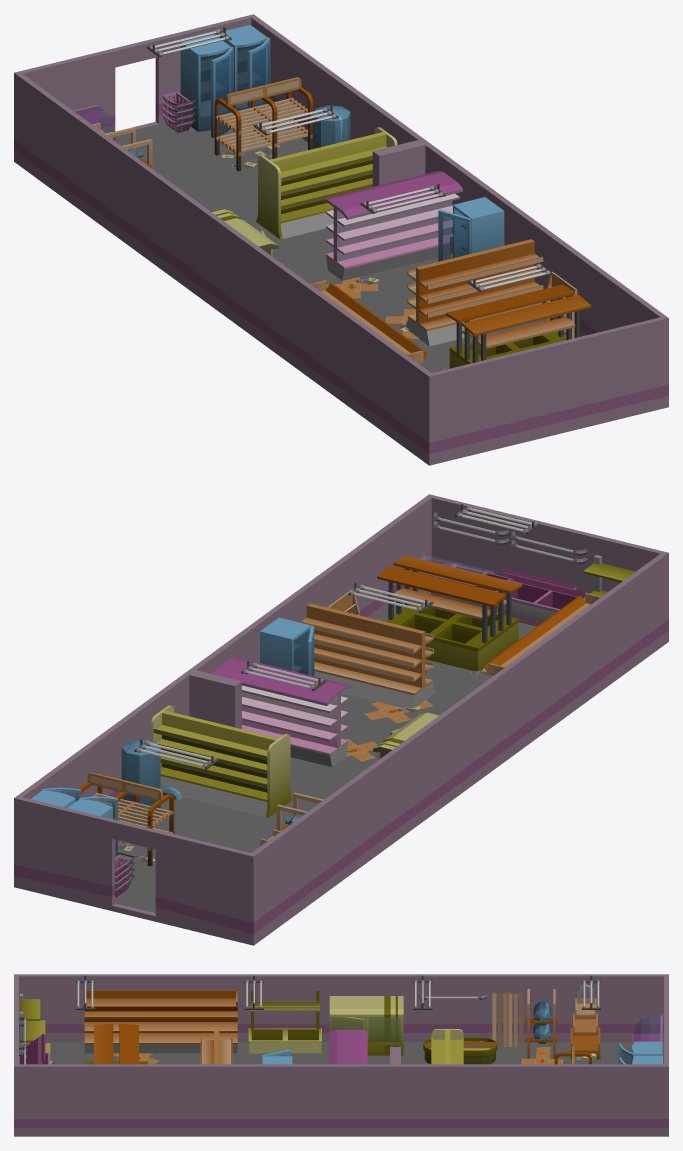
File: LOCA.fbx
3 views of the same model, one above another, from view 1: azimuth 30°, elevation 25°; view 2: azimuth 150°, elevation 25°; view 3: azimuth 270°, elevation 25° (orthographic). The views are drawn at different scales.
Parts seen in each view (by area): view 1: Plane.001, Cube.001, Cube.008, Cube.006, Cube.005, Plane.006, Plane.003, Circle.001, Plane.002, Plane.004, Cube.007, Cylinder.003 (+1 smaller); view 2: Plane.001, Cube.008, Cube.005, Cube.006, Cube.001, Circle.001, Plane.006, Cube.002, Plane.002, Cylinder.003, Cube.007, Cube.011 (+4 smaller); view 3: Plane.001, Cube.007, Cube.011, Cube.009, Cube.005, Cube.012, Cube.018, Cube.001, Circle.001, Cube.010, Cube.008, Cylinder.001 (+9 smaller).
Part boxes in pixels (<box>): Plane.001: <box>14,14,668,465</box>; Cube.001: <box>323,171,462,280</box>; Cube.008: <box>256,127,397,239</box>; Cube.006: <box>406,239,543,346</box>; Cube.005: <box>446,284,591,368</box>; Plane.006: <box>214,77,313,171</box>; Plane.003: <box>180,34,233,137</box>; Circle.001: <box>146,27,552,292</box>; Plane.002: <box>438,197,504,261</box>; Plane.004: <box>217,25,270,126</box>; Cube.007: <box>310,280,427,363</box>; Cylinder.003: <box>312,105,350,148</box>; Plane.001: <box>14,494,668,945</box>; Cube.008: <box>150,705,292,817</box>; Cube.005: <box>377,555,522,671</box>; Cube.006: <box>298,603,435,708</box>; Cube.001: <box>213,657,351,766</box>; Circle.001: <box>134,504,540,769</box>; Plane.006: <box>76,772,174,866</box>; Cube.002: <box>497,568,584,626</box>; Plane.002: <box>260,617,314,676</box>; Cylinder.003: <box>121,739,181,819</box>; Cube.007: <box>483,593,601,675</box>; Cube.011: <box>373,712,438,759</box>; Plane.001: <box>14,974,668,1136</box>; Cube.007: <box>84,990,237,1053</box>; Cube.011: <box>329,996,403,1055</box>; Cube.009: <box>248,989,321,1053</box>; Cube.005: <box>84,1023,148,1064</box>; Cube.012: <box>570,984,600,1059</box>; Cube.018: <box>492,992,523,1046</box>; Cube.001: <box>329,1029,367,1064</box>; Circle.001: <box>75,975,600,1009</box>; Cube.010: <box>525,989,557,1058</box>; Cube.008: <box>431,1029,463,1064</box>; Cylinder.001: <box>423,1037,497,1064</box>.
Size of the model in its own units: 800 by 418 by 2400.
